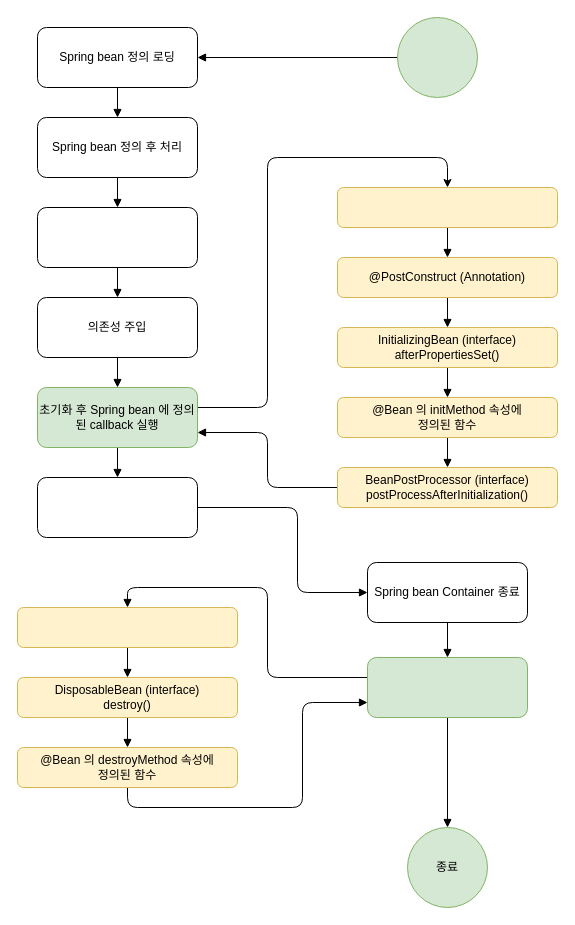
This 575x925 diagram has some shape labels left out. Each missing label, with the box of its shape:
@PreDestory (Annotation): (16, 606, 238, 648)
BeanPostProcessor (interface) postProcessBeforeInitialization(): (336, 186, 558, 228)
Spring bean 초기화: (36, 206, 198, 268)
사용 가능한 Spring bean 상태: (36, 476, 198, 538)
시작: (396, 16, 478, 98)
파기 전 Spring bean 에 정의된 callback 실행: (366, 656, 528, 718)
